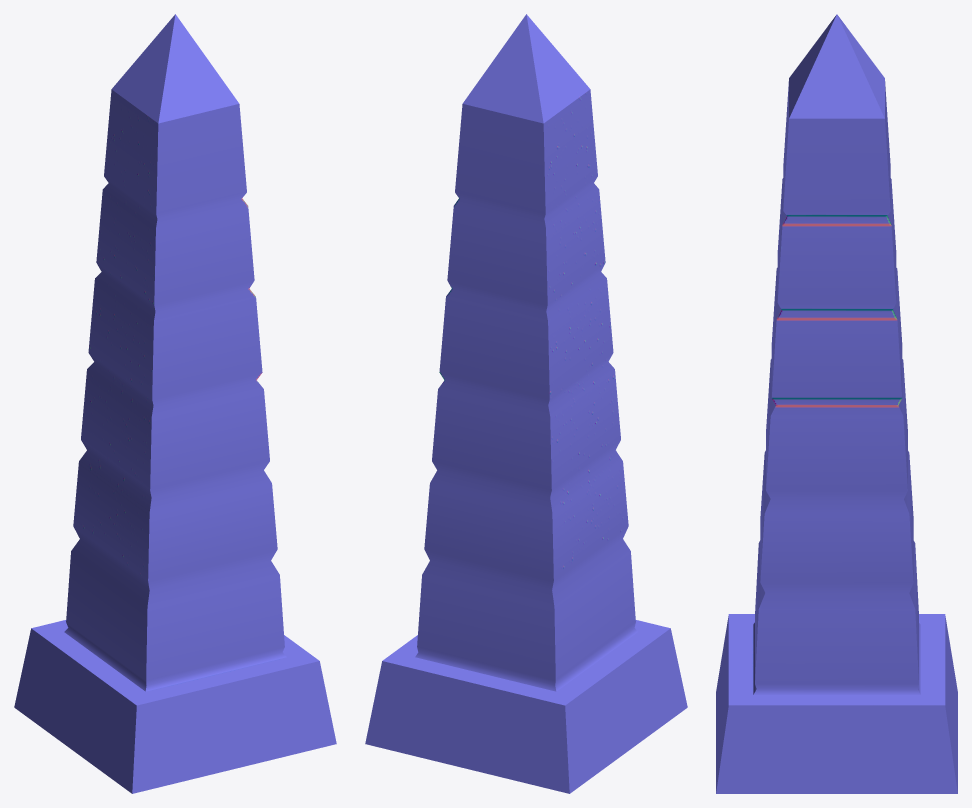
The model's file is oebliskTexture.fbx.
The picture shows the model from 3 angles, left to right: view 1: azimuth 30°, elevation 25°; view 2: azimuth 150°, elevation 25°; view 3: azimuth 270°, elevation 25°; orthographic projection. The views are drawn at different scales.
Visible parts, largest first — view 1: pPyramid1; view 2: pPyramid1; view 3: pPyramid1.
Boxes of the visible parts, x1,y1,x2,y2 form: pPyramid1: [14, 14, 336, 793]; pPyramid1: [365, 14, 687, 793]; pPyramid1: [716, 14, 957, 793].
Size of the model in its own units: 4.79 by 15.92 by 4.79.
